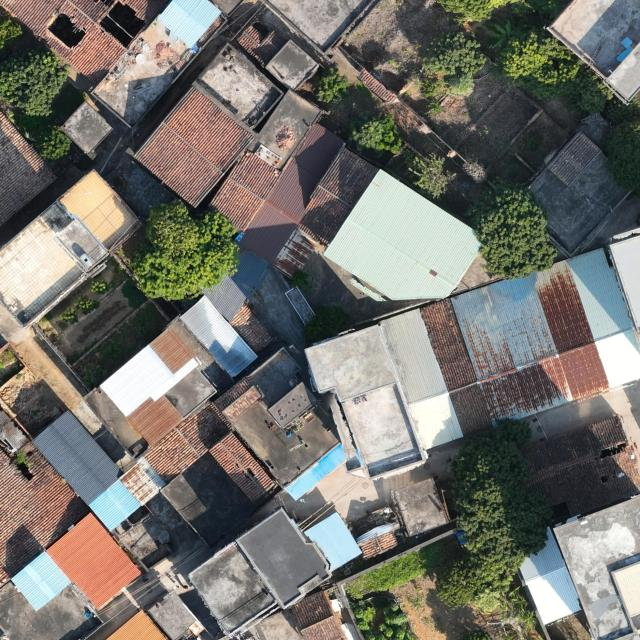Tree: (450, 417, 551, 557), (130, 197, 240, 301), (472, 174, 559, 280), (490, 24, 586, 97), (435, 550, 527, 614), (0, 47, 70, 117), (420, 32, 487, 98), (599, 113, 640, 199), (348, 108, 403, 155), (408, 151, 457, 199), (573, 74, 616, 114), (36, 124, 73, 161), (315, 66, 349, 103), (605, 93, 640, 124), (0, 16, 23, 49), (457, 629, 501, 640)
